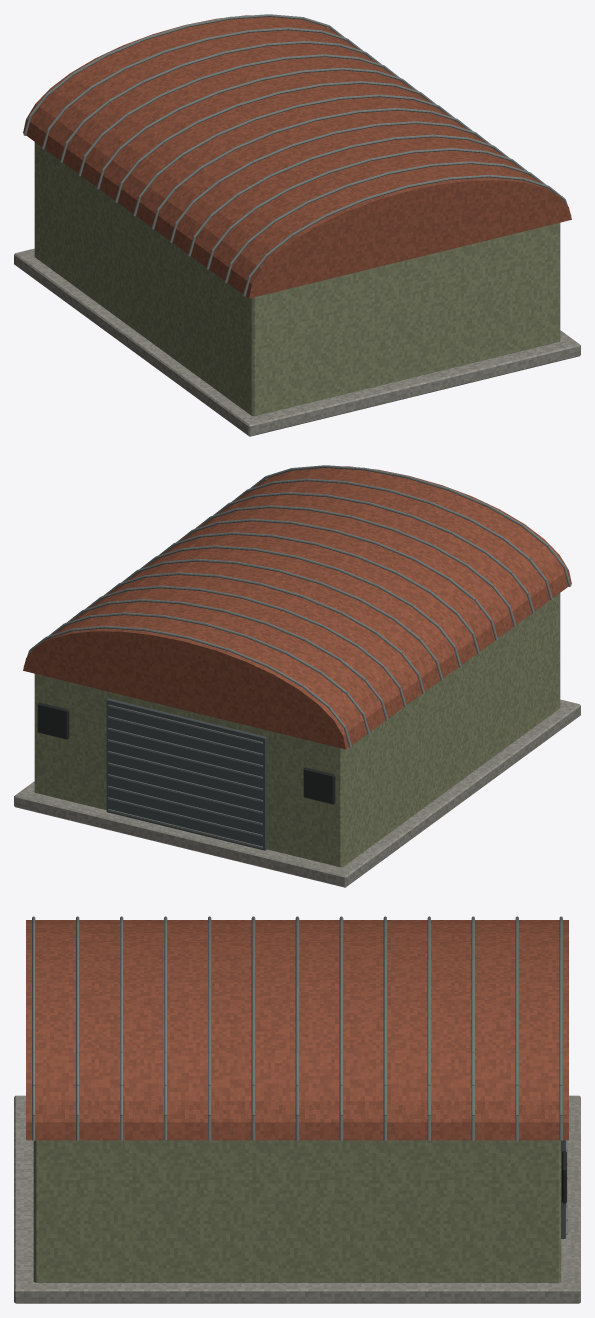
3 views of the same model, one above another, from view 1: azimuth 30°, elevation 25°; view 2: azimuth 150°, elevation 25°; view 3: azimuth 270°, elevation 25° (orthographic). The views are drawn at different scales.
Parts seen in each view (by area): view 1: ST2-B02_Mesh; view 2: ST2-B02_Mesh; view 3: ST2-B02_Mesh.
Part boxes in pixels (x1,y1,x2,y2): ST2-B02_Mesh: (14,14,580,436); ST2-B02_Mesh: (14,465,580,887); ST2-B02_Mesh: (14,916,580,1303).
Bounding box in the file's own units: 7 × 4.14 × 8.6.
6 materials, 3 textured.
